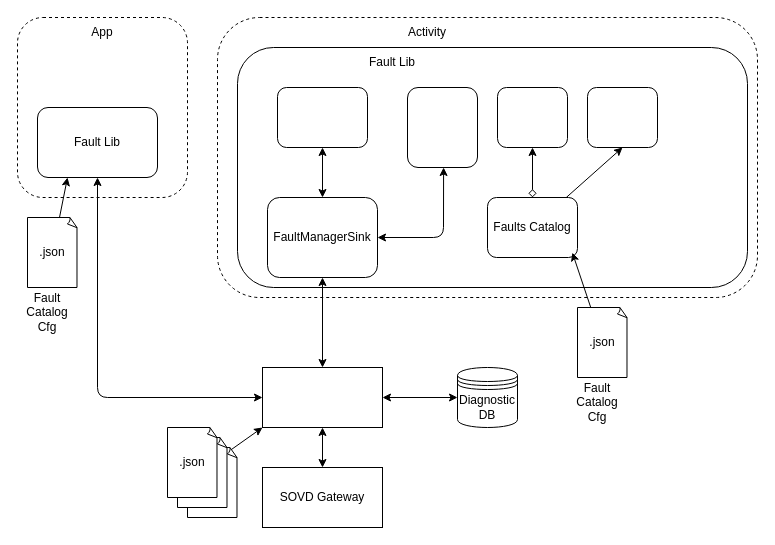
Image size: 775x545. Some labels were removed from this diagram. Each missing label, with the centre of its shape:
Diagnostic Entity: [622,117]
Diagnostic Fault Manager: [322,397]
Enabling Condition: [442,127]
Fault: [532,117]
Fault Monitor: [322,117]
